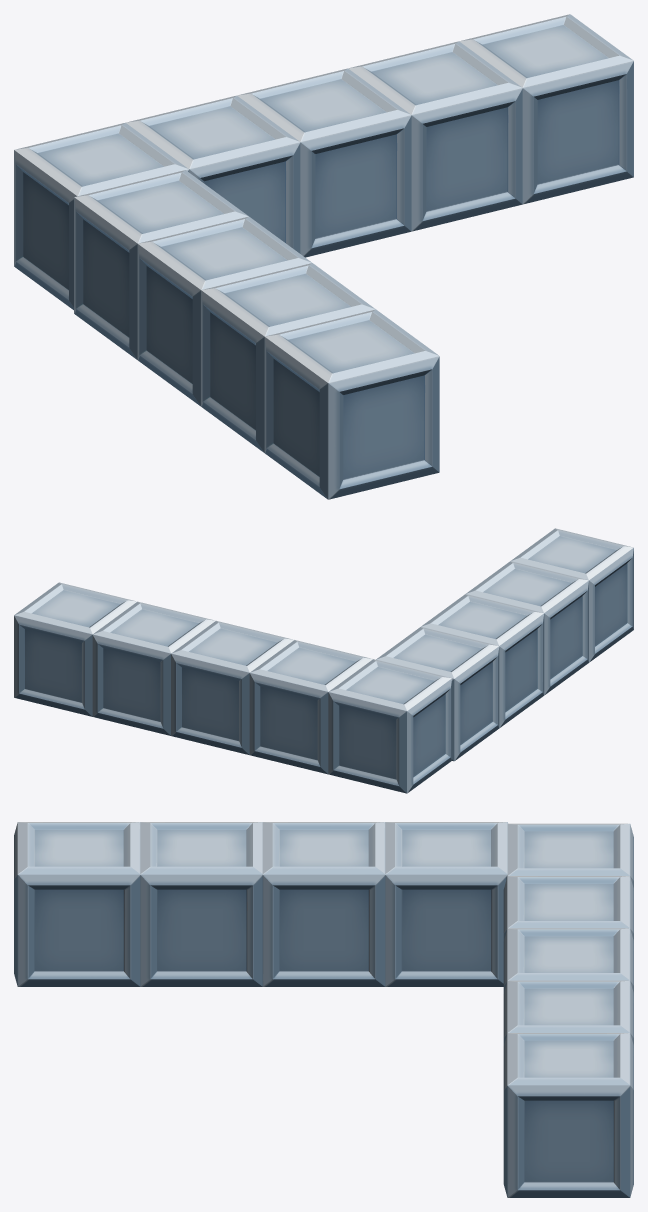
File: PrototypeL5.fbx
3 views of the same model, one above another, from view 1: azimuth 30°, elevation 25°; view 2: azimuth 150°, elevation 25°; view 3: azimuth 270°, elevation 25° (orthographic). The views are drawn at different scales.
Visible parts, largest first — view 1: polySurface1; view 2: polySurface1; view 3: polySurface1.
Boxes of the visible parts, box(x1,y1,x2,y2) form: polySurface1: box(14, 14, 633, 499); polySurface1: box(14, 528, 633, 793); polySurface1: box(14, 822, 633, 1197).
Bounding box in the file's own units: 4.43 × 0.9244 × 4.35.
2 materials, 1 textured.
